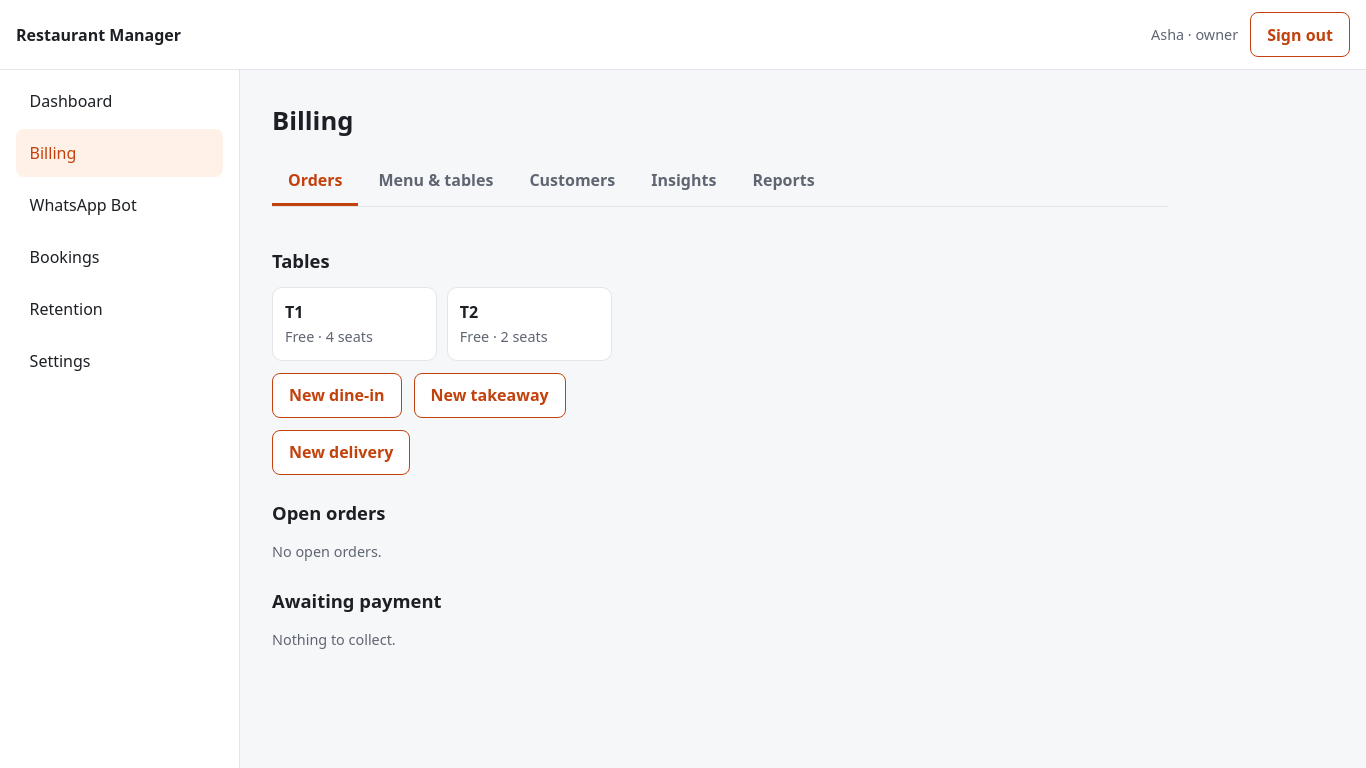
Customer on an order › shows a Returning badge with the visit count for a returning guest
Click the button "New delivery".
click(341, 452)  # box [272,430,410,475]
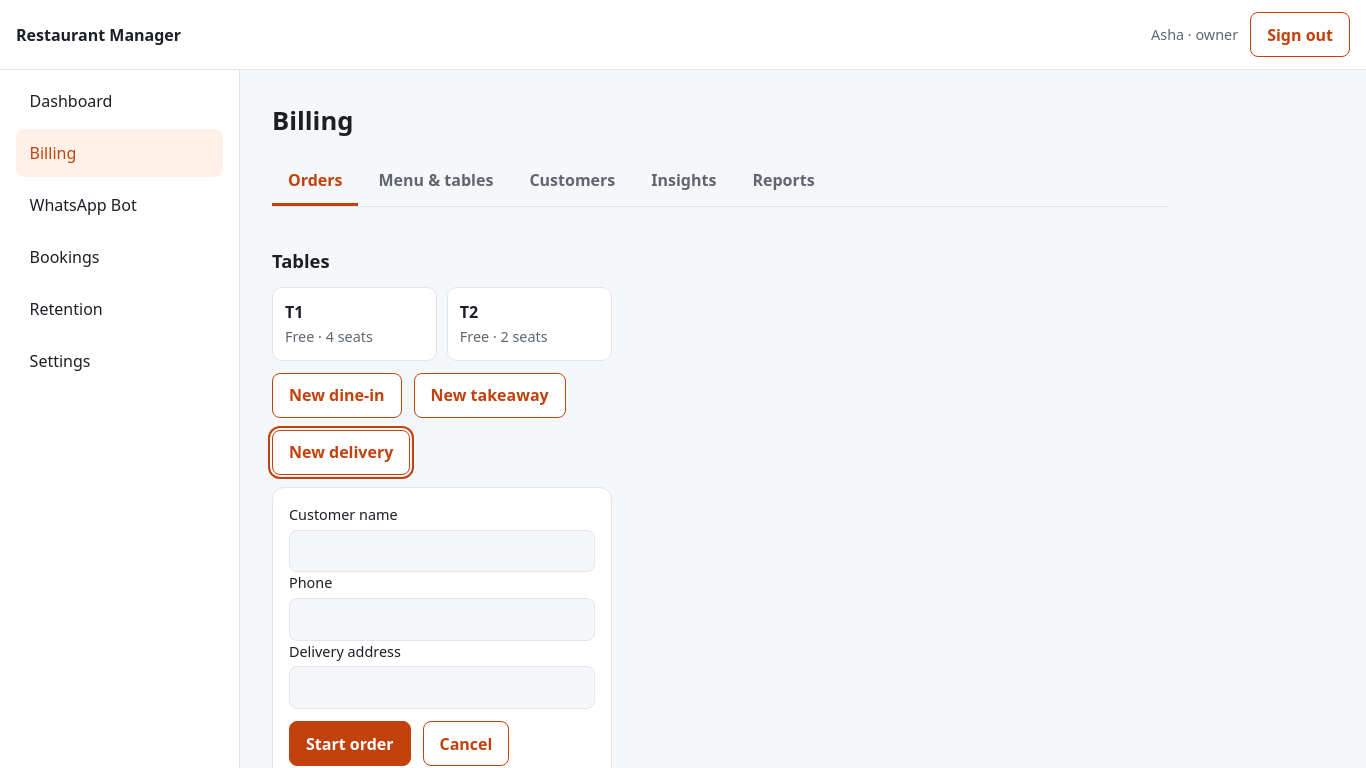
Type "12 Lodhi Road" into the field labelled "Delivery address".
click(442, 688); type("12 Lodhi Road")  # box [289,666,595,709]
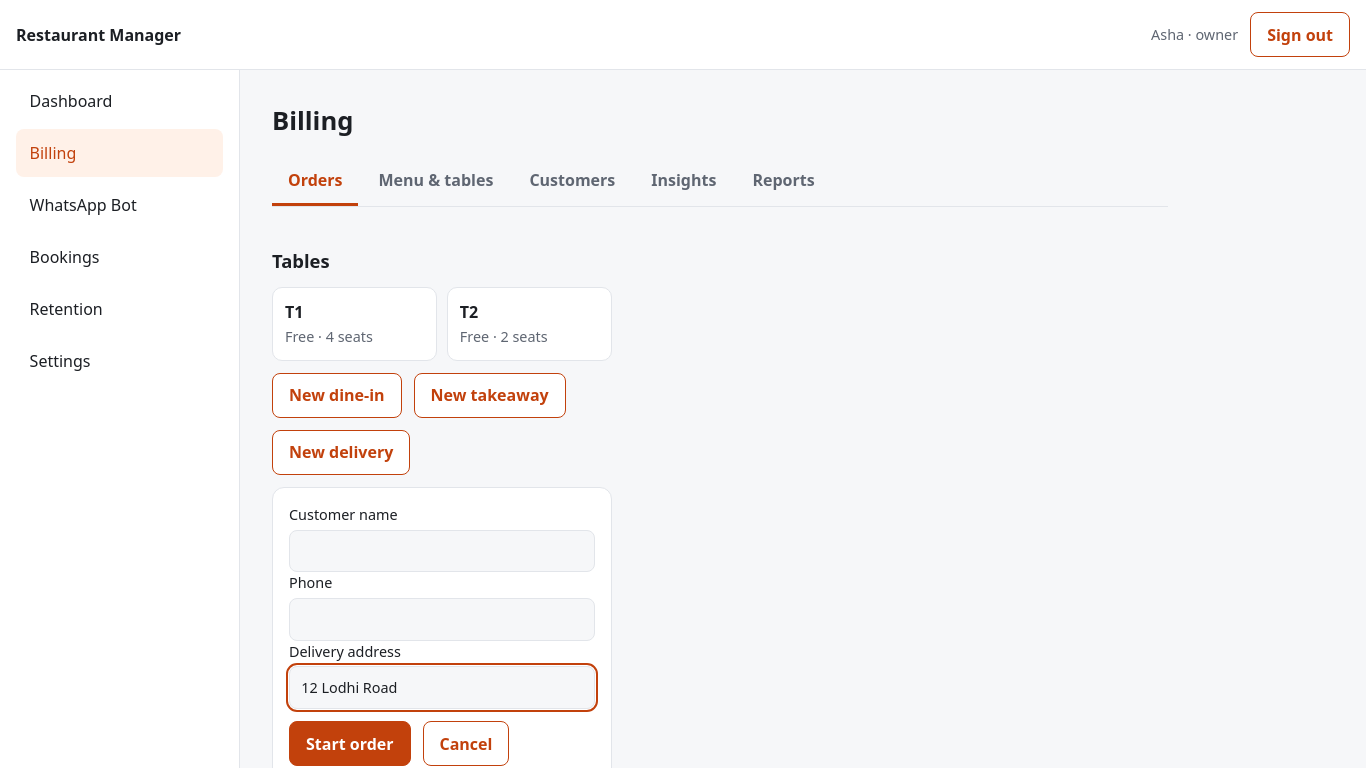
Click the button "Start order".
click(350, 744)  # box [289,721,410,766]
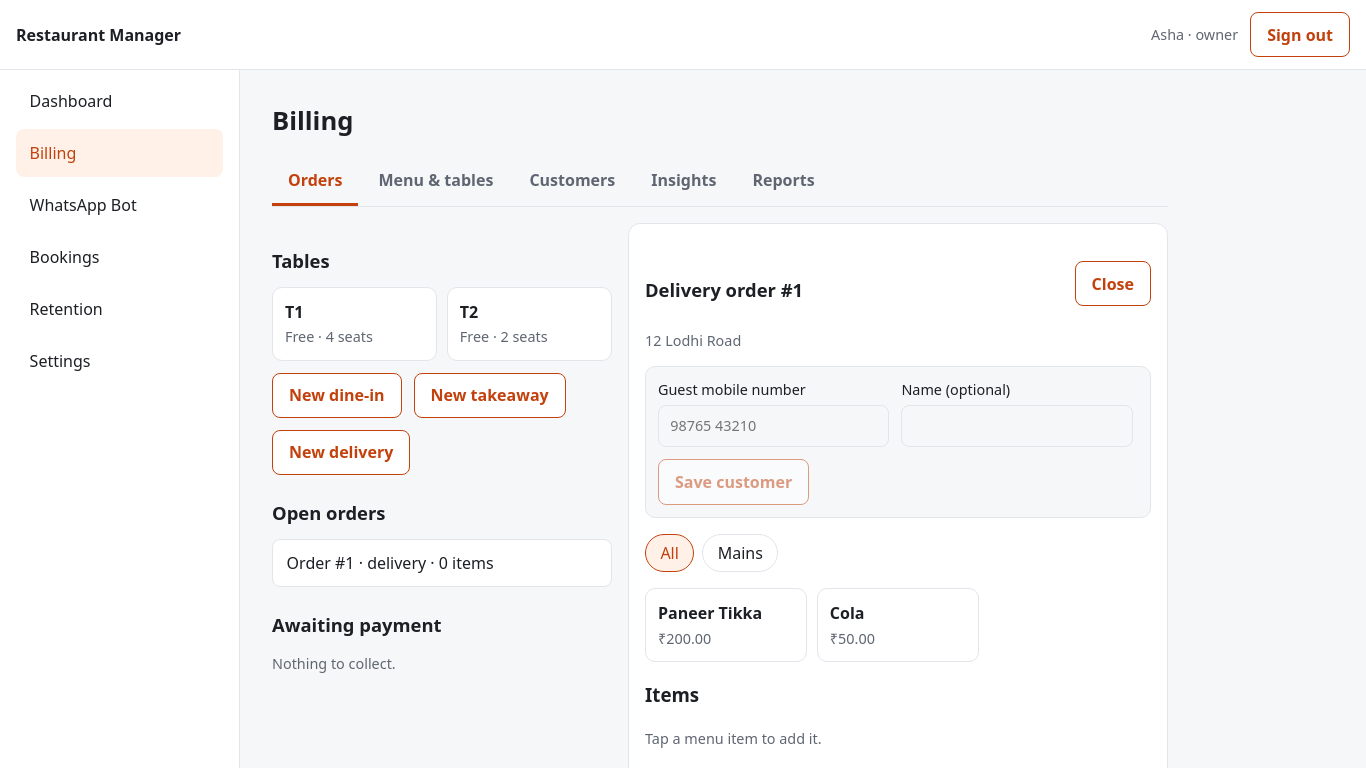
Now the heading "Delivery order #1" is shown, box [645,276,803,304]
Type "9810000001" into the field labelled "Guest mobile number".
click(774, 426); type("9810000001")  # box [658,405,889,447]
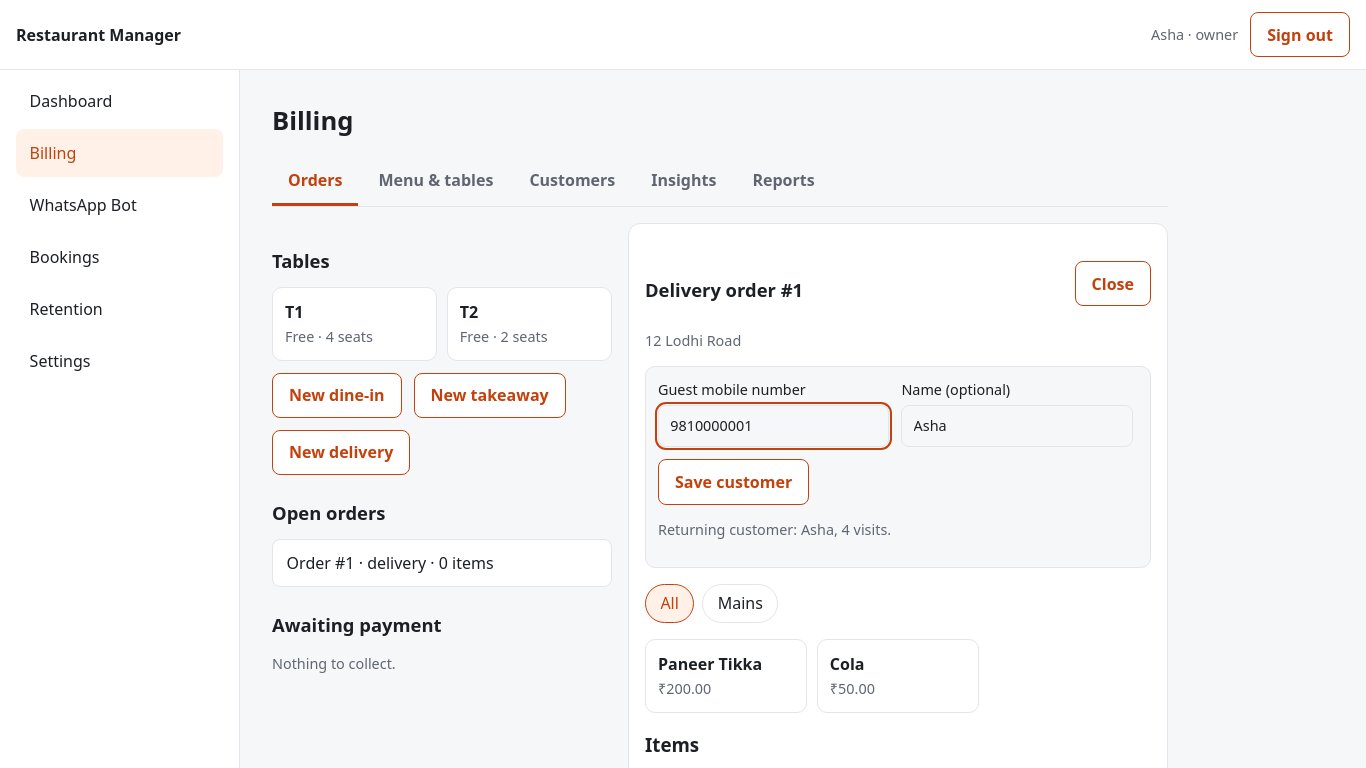
Click the button "Save customer".
click(734, 482)  # box [658,459,809,504]
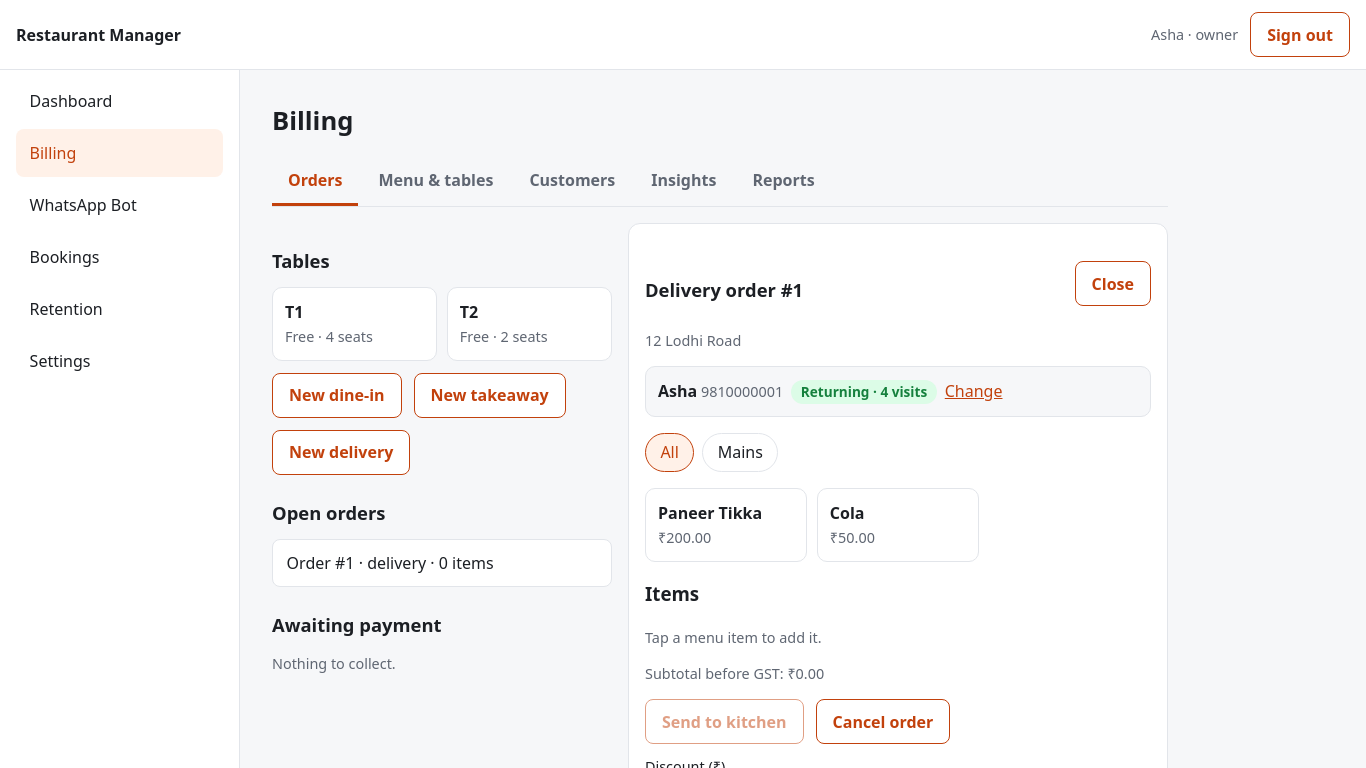
Now the text "Returning · 4 visits" is shown, box [791,380,937,404]
